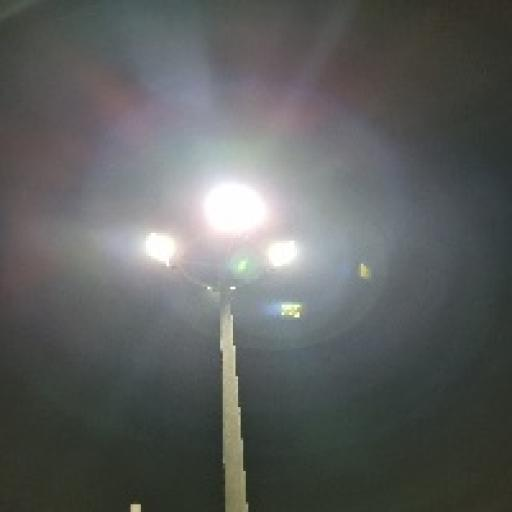Working: (191, 176, 275, 242), (131, 225, 186, 274), (251, 232, 305, 271)
